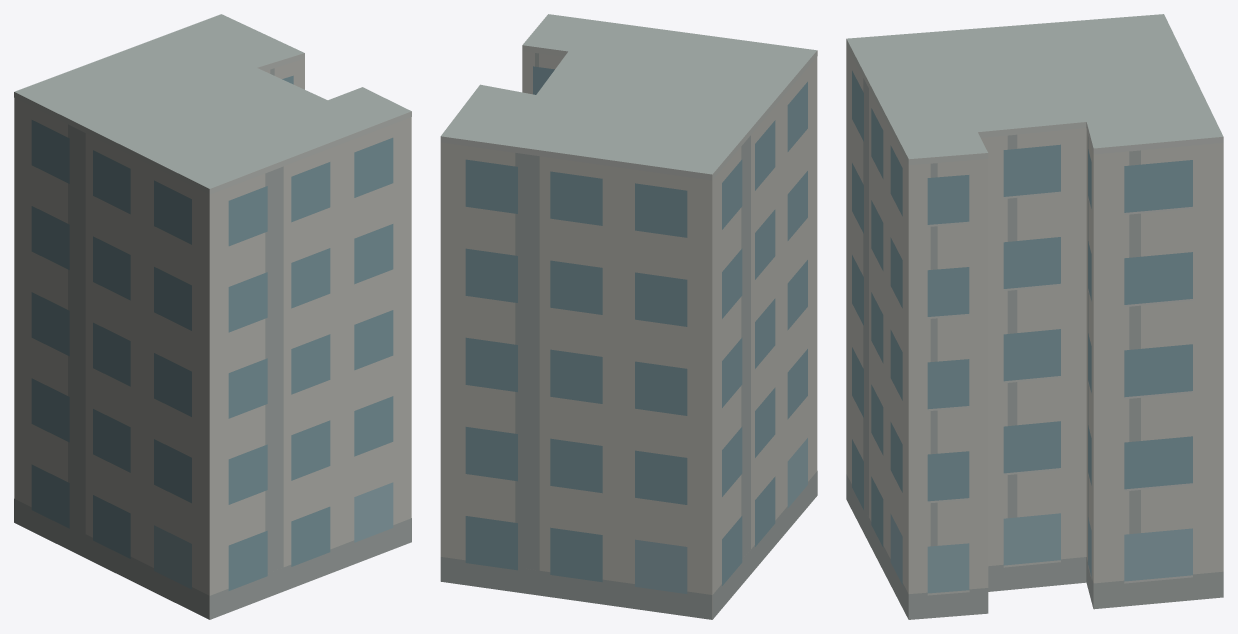
Rendered from survey-upis-32867020.glb.
3 views of the same model, side by side, from view 1: azimuth 30°, elevation 25°; view 2: azimuth 150°, elevation 25°; view 3: azimuth 270°, elevation 25° (orthographic). The views are drawn at different scales.
Parts seen in each view (by area): view 1: survey-upis-32867020.tmp; view 2: survey-upis-32867020.tmp; view 3: survey-upis-32867020.tmp.
Part boxes in pixels (bbox=[...]): survey-upis-32867020.tmp: bbox=[14, 14, 411, 619]; survey-upis-32867020.tmp: bbox=[440, 14, 817, 619]; survey-upis-32867020.tmp: bbox=[846, 14, 1223, 619].
Bounding box in the file's own units: 12.24 × 18.1 × 13.44.
